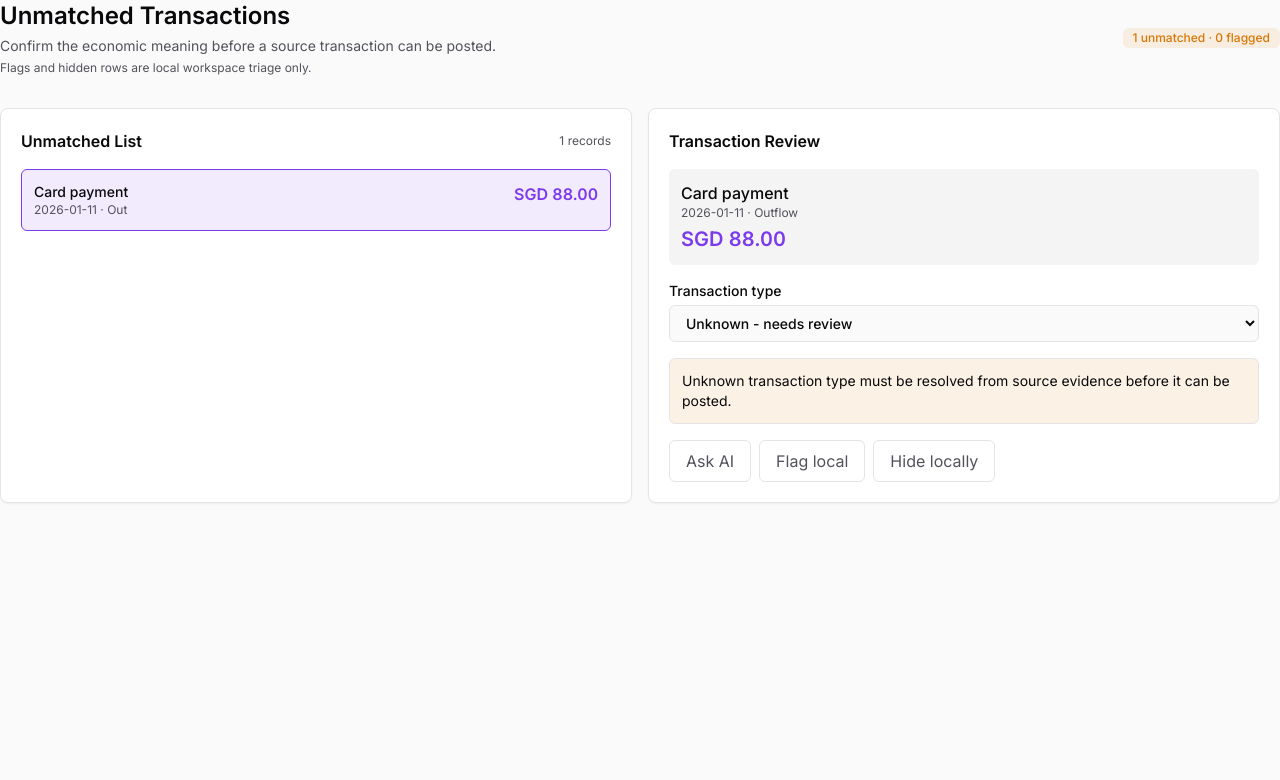
Test: UnmatchedBoard › AC-reconciliation.first-use.1 does not select a newly created incompatible account
Select "Expense" in the dropdown labelled "Transaction type" at {"x": 964, "y": 324}, box [669,305,1259,342]
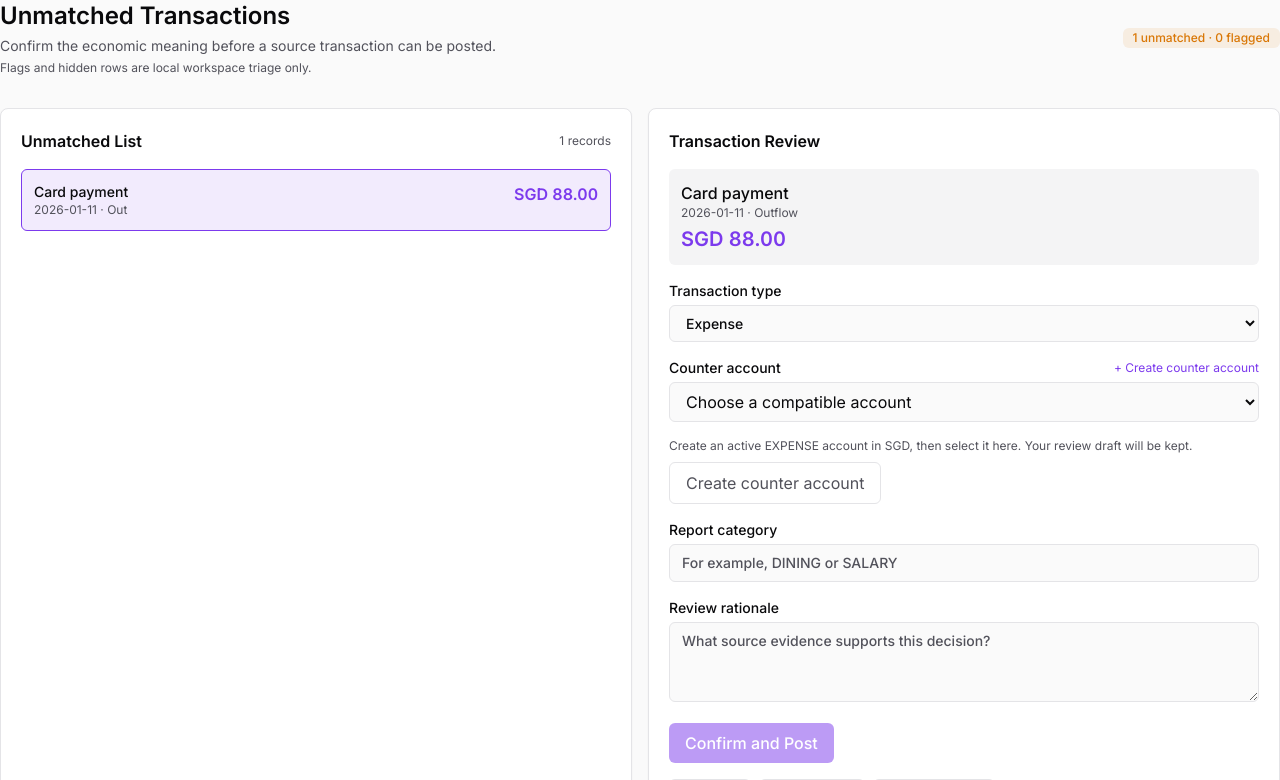
Click the button "Create counter account".
click(775, 483)  # box [669,462,881,504]
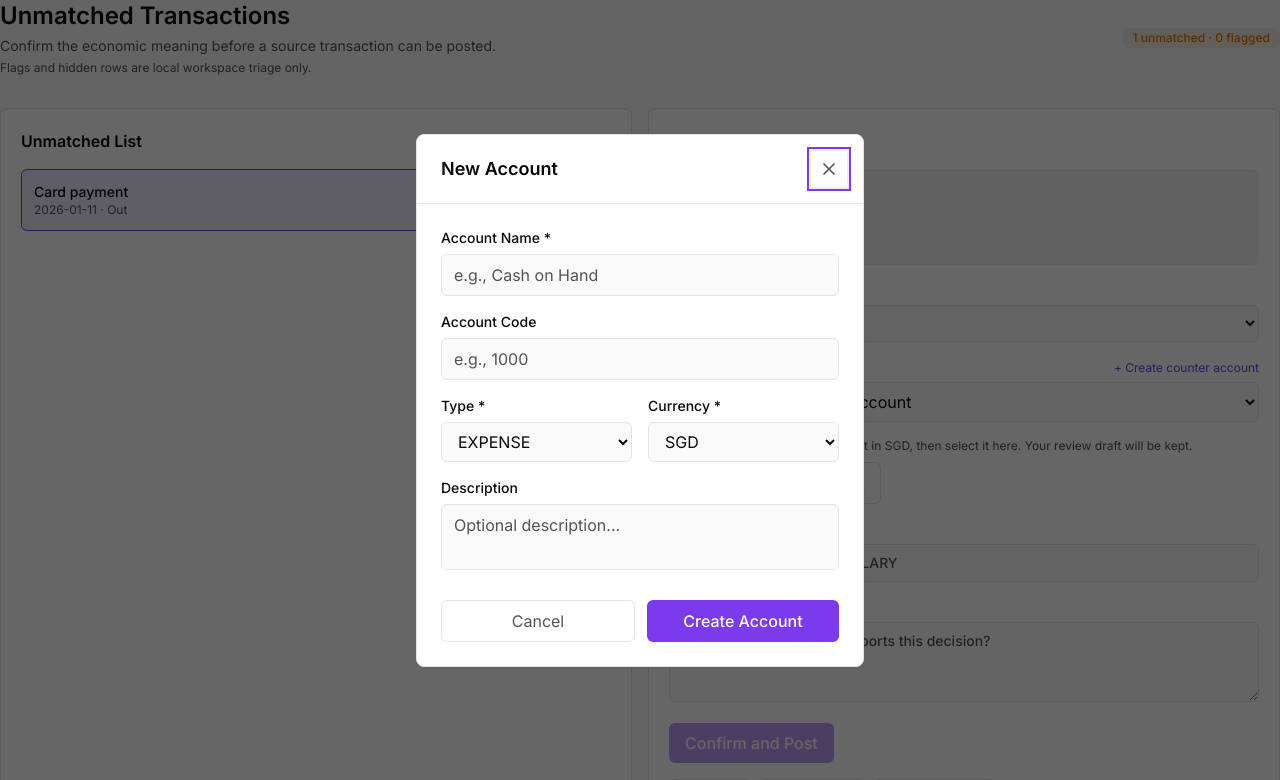
Type "Dining" into the field with placeholder "e.g., Cash on Hand".
click(640, 274); type("Dining")  # box [441,254,839,296]
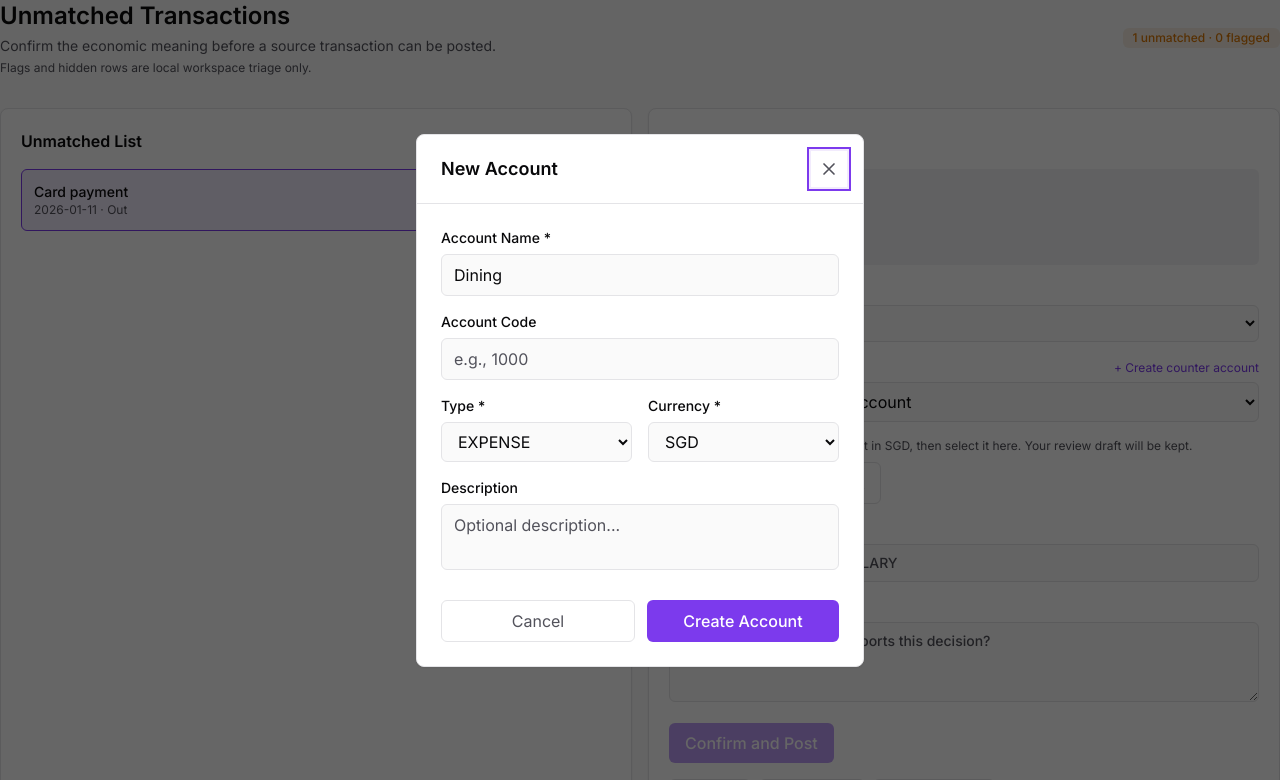
Select "USD" in the dropdown labelled "Currency *" at {"x": 744, "y": 442}, box [648,422,839,462]
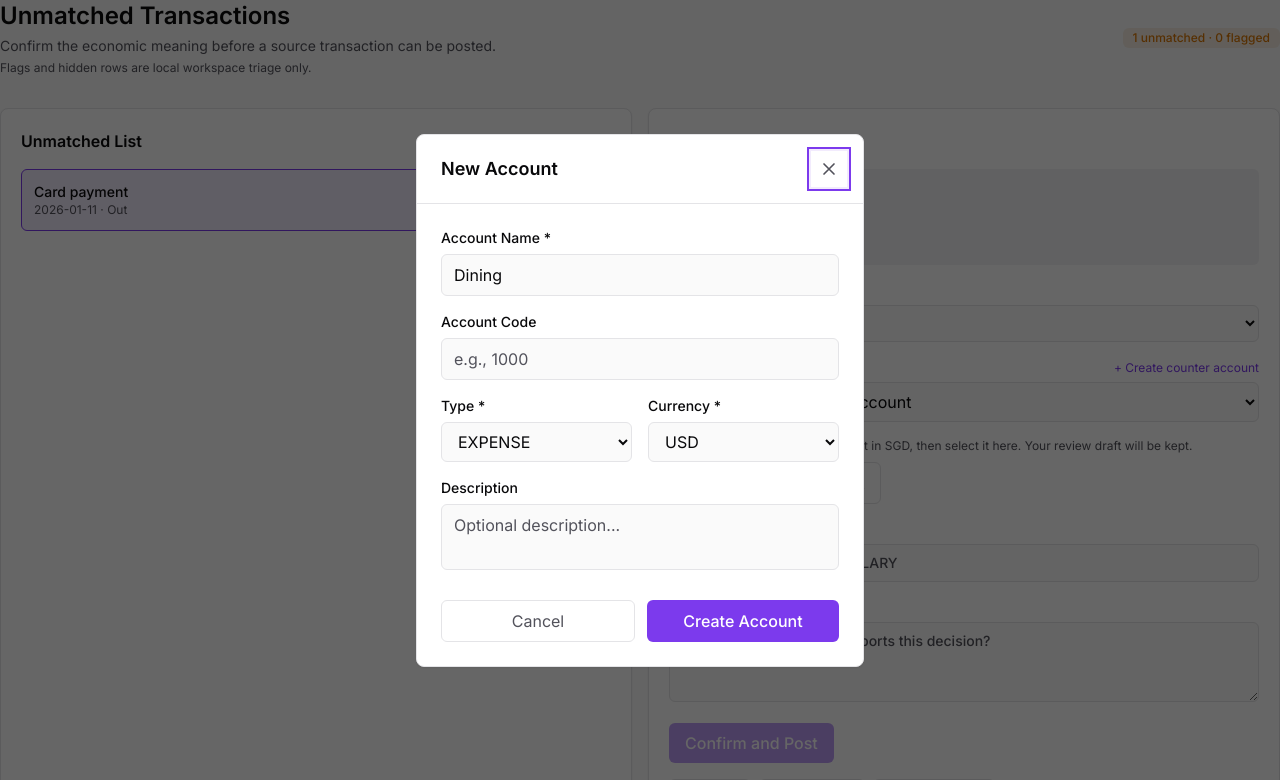
Click the button "Create Account".
click(743, 620)  # box [647,600,839,642]
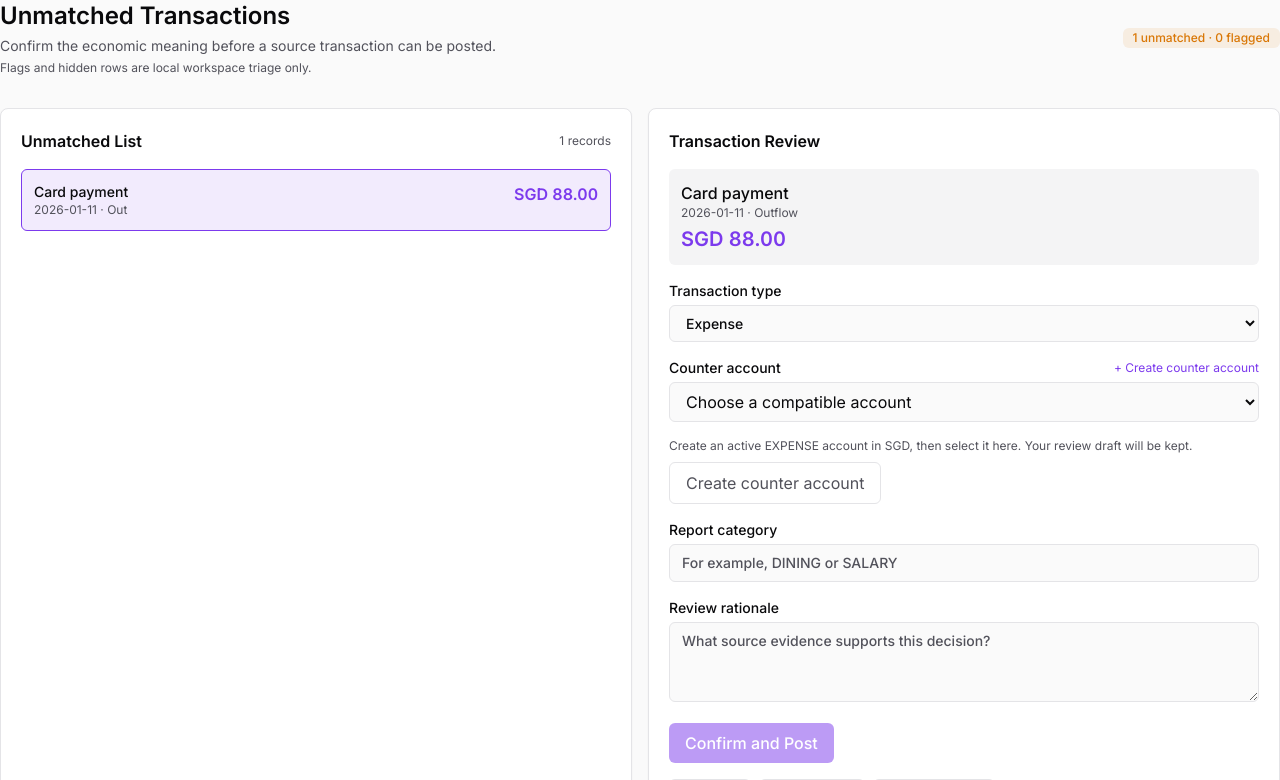
Now the button "Create counter account" is shown, box [669,462,881,504]
Now the button "Confirm and Post" is disabled, box [669,723,834,763]
Now the dialog is gone
